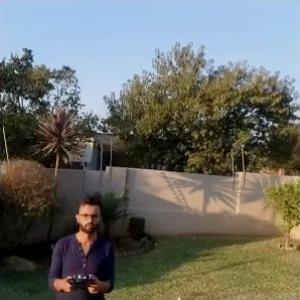follow: (46, 190, 119, 299)
